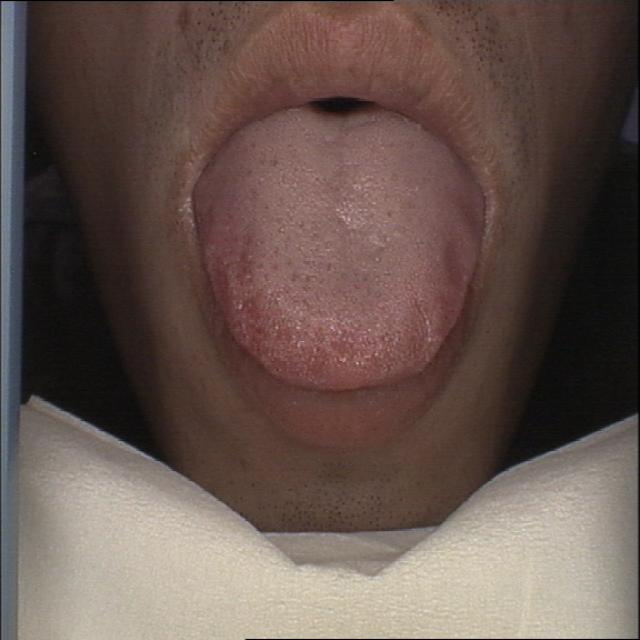tongue: (183, 106, 493, 399)
